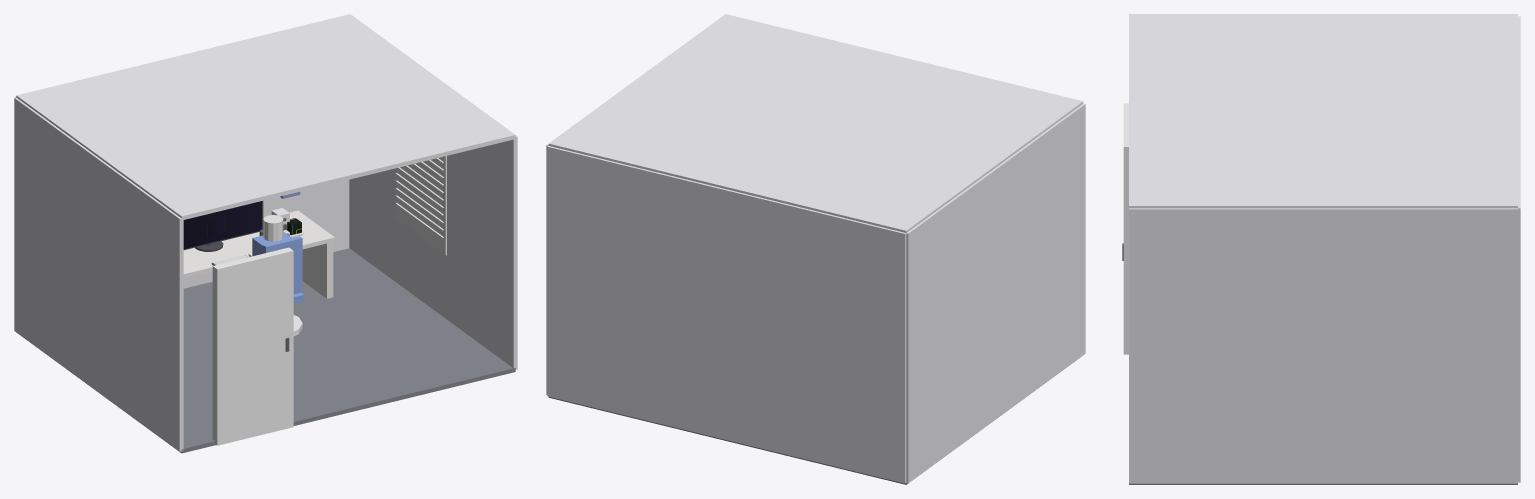
The model's file is interaction-assets-mobile.glb.
3 renders of one model, left to right at view 1: azimuth 30°, elevation 25°; view 2: azimuth 150°, elevation 25°; view 3: azimuth 270°, elevation 25°, orthographic. The views are drawn at different scales.
Parts seen in each view (by area): view 1: studio_ceiling, studio_wall_left, studio_floor, studio_wall_right, door_frame, window_frame_right, studio_wall_rear, desk_tabletop, monitor_screen_display, desk_leg_right, chair_back; view 2: studio_wall_rear, studio_ceiling, studio_wall_left, studio_floor; view 3: studio_wall_right, studio_ceiling, door_frame, studio_wall_rear, studio_floor.
Part boxes in pixels (<box>): studio_ceiling: <box>16,14,515,220</box>; studio_wall_left: <box>14,97,183,451</box>; studio_floor: <box>16,248,515,453</box>; studio_wall_right: <box>349,135,517,369</box>; door_frame: <box>212,247,293,445</box>; window_frame_right: <box>395,156,446,255</box>; studio_wall_rear: <box>15,96,349,288</box>; desk_tabletop: <box>183,210,334,278</box>; monitor_screen_display: <box>183,201,261,249</box>; desk_leg_right: <box>302,242,333,298</box>; chair_back: <box>263,236,302,294</box>; studio_wall_rear: <box>547,146,906,483</box>; studio_ceiling: <box>548,14,1083,232</box>; studio_wall_left: <box>906,103,1085,483</box>; studio_floor: <box>548,357,1080,484</box>; studio_wall_right: <box>1129,208,1517,483</box>; studio_ceiling: <box>1129,14,1517,208</box>; door_frame: <box>1123,103,1128,354</box>; studio_wall_rear: <box>1518,16,1520,482</box>; studio_floor: <box>1129,483,1517,484</box>.
Size of the model in its own units: 4.27 by 3.23 by 3.76.
36 materials, 7 textured.
